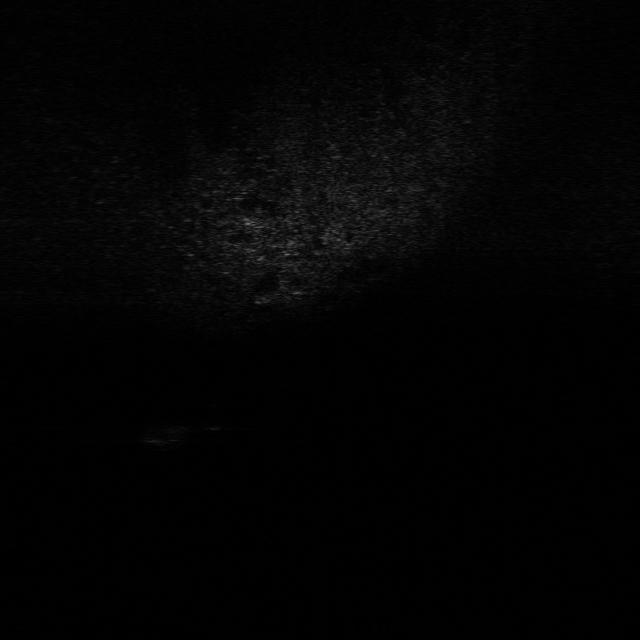ball: (194, 400, 237, 431)
circle cage: (132, 421, 196, 453)
